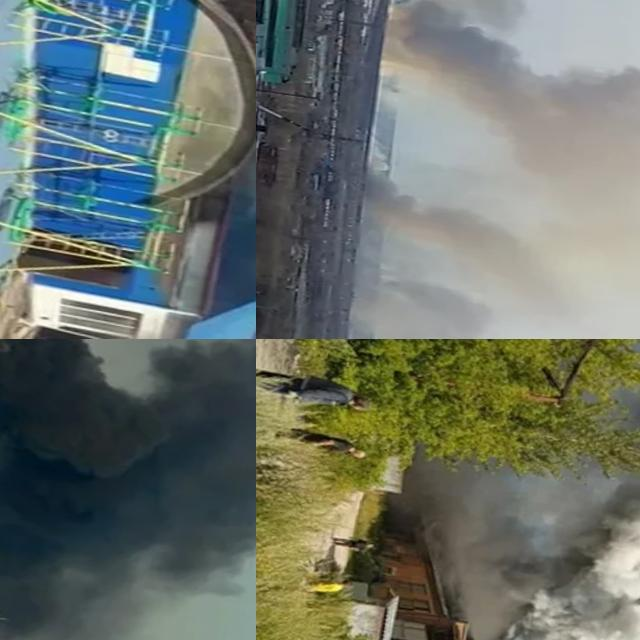smoke: (0, 339, 256, 640), (454, 339, 640, 640), (372, 19, 640, 214), (158, 0, 256, 339), (356, 174, 572, 293), (333, 280, 580, 339), (390, 0, 531, 36)
